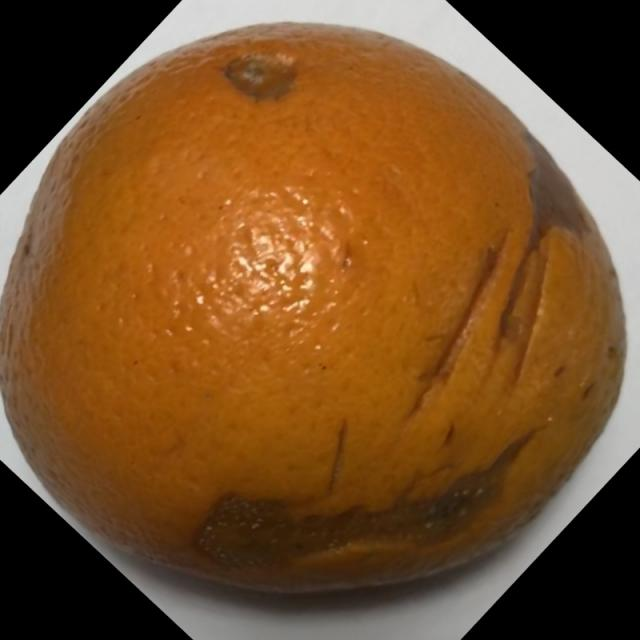canker: (1, 14, 628, 635)
